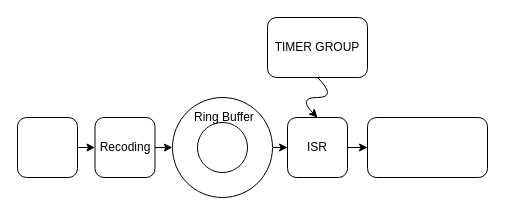
Image size: 505x215. Some labels were removed from this diagram. The shapes that lost their labels are listed below. From the top down, each one's centre as x and y in pixels, then its label:
At (x=47, y=147): "Write".
At (x=427, y=147): "LEDC PWM".
